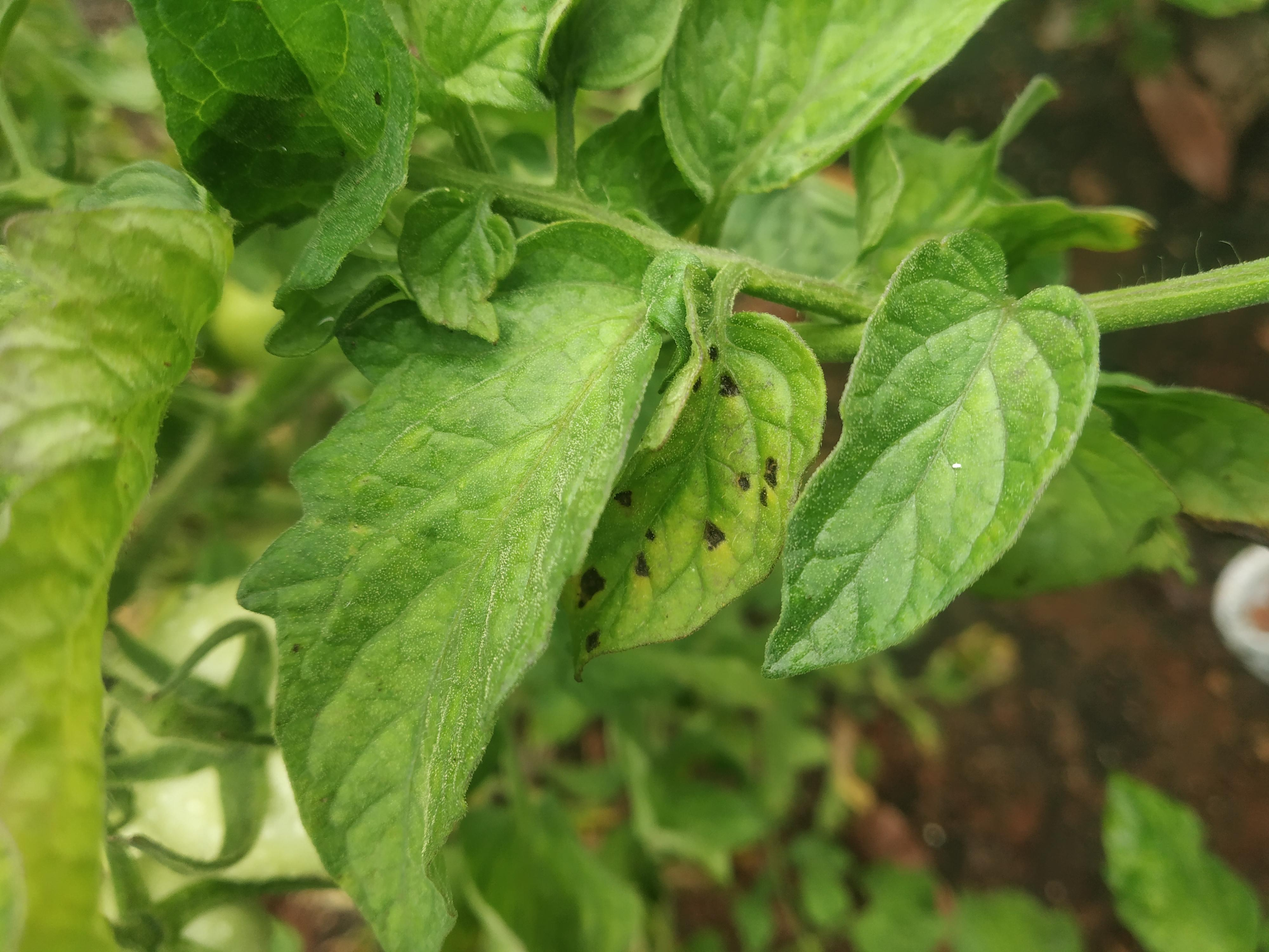Early Blight: (433, 263, 708, 647)
Healthy: (587, 0, 1036, 735), (155, 263, 508, 724)
